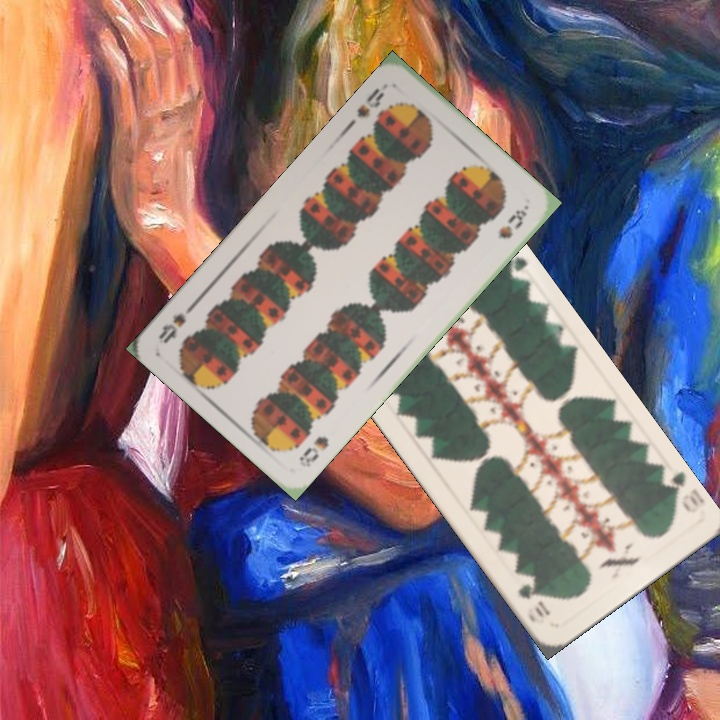G10: (657, 468, 701, 517)
S8: (352, 79, 391, 120), (294, 432, 331, 470)
